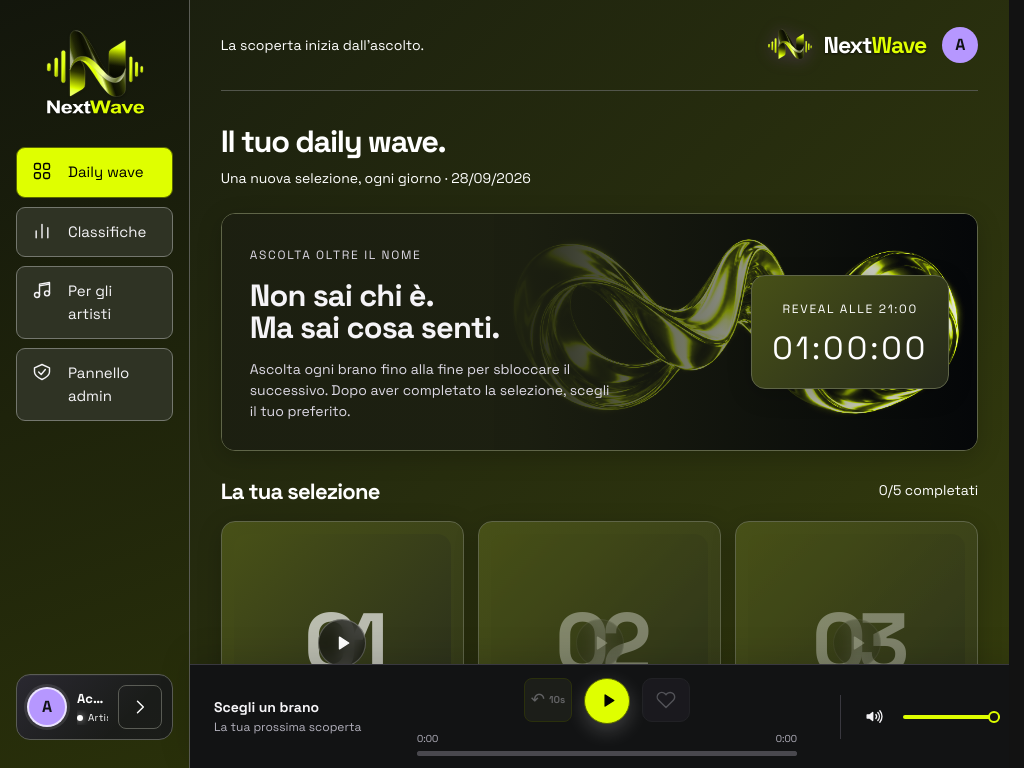
Test case: account cloud › un admin artista può caricare ancora dopo la traccia mensile
This screenshot has width=1024, height=768.
expect the navigation bar named "Navigazione principale" is shown: met, box [16,147,173,421]
expect the heading "La tua selezione" is shown: met, box [221,479,380,503]
Click the link "Per gli artisti".
click(94, 303)  # box [16,266,173,339]
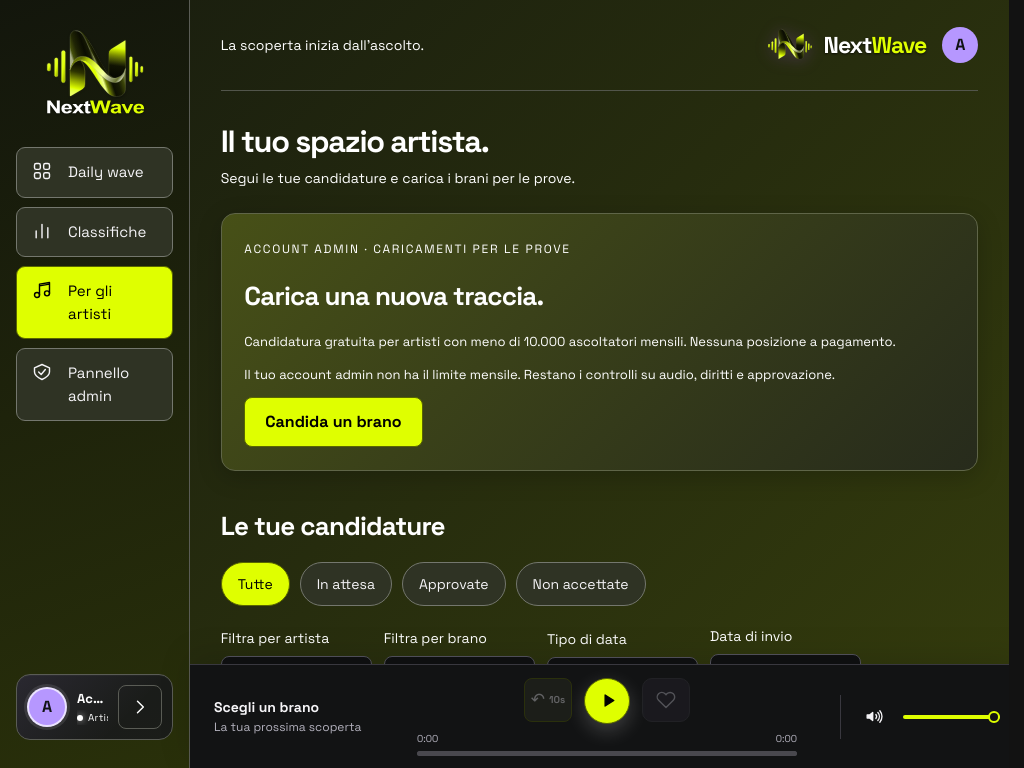
expect the button "Candida un brano" is shown: met, box [244,397,423,447]
